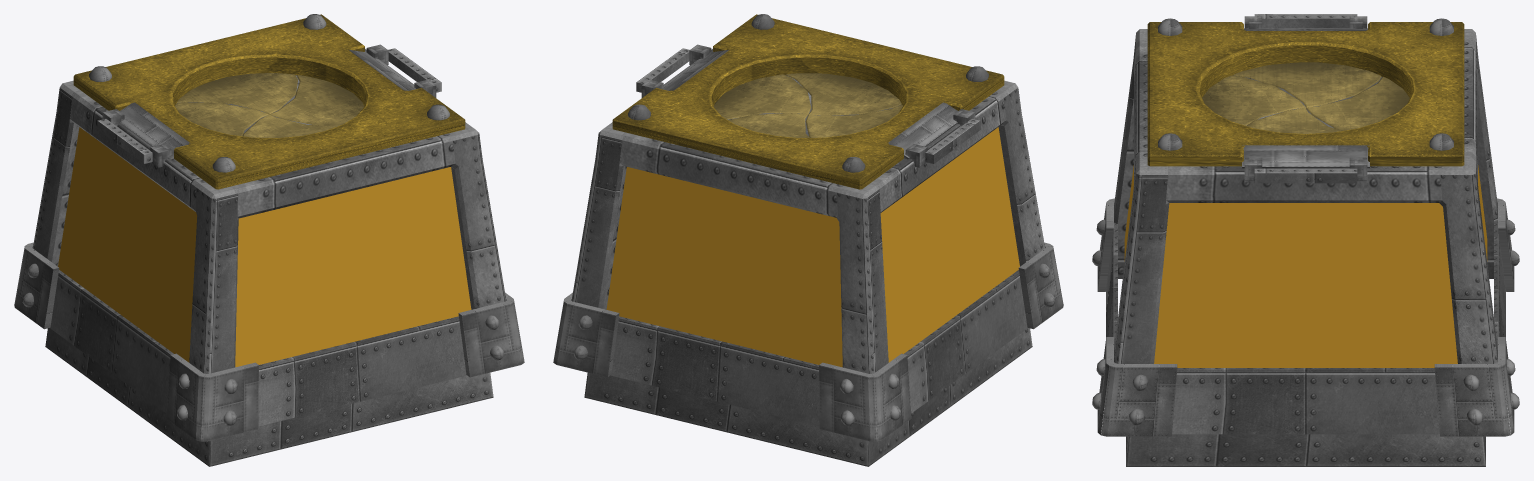
The model's file is static.glb.
3 renders of one model, left to right at view 1: azimuth 30°, elevation 25°; view 2: azimuth 150°, elevation 25°; view 3: azimuth 270°, elevation 25°, orthographic. The views are drawn at different scales.
Parts seen in each view (by area): view 1: Plane, Boole, Plane_2, frame, Cube_4, Cube_3, frame_2, Cube_7, frame_3, Cube_6, Cube_8, Extrude_6 (+8 smaller); view 2: Plane_3, Boole, Plane_2, frame_3, Cube_10, Cube_3, frame_2, Cube_7, frame_4, Cube_14, Cube_12, Extrude (+8 smaller); view 3: Plane_4, Boole, Cube_13, frame_4, Cube_3, frame, Cube_5, Cube_15, frame_3, Extrude_4, Extrude, Cube (+11 smaller).
Part boxes in pixels (x1,y1,x2,y2): Plane: (235, 167, 471, 367); Boole: (73, 14, 465, 189); Plane_2: (58, 127, 197, 362); frame: (231, 122, 506, 309); Cube_4: (258, 316, 466, 426); Cube_3: (45, 75, 493, 466); frame_2: (70, 90, 238, 433); Cube_7: (50, 270, 173, 413); frame_3: (33, 80, 79, 266); Cube_6: (458, 300, 524, 377); Cube_8: (201, 362, 258, 441); Extrude_6: (177, 73, 297, 114); Plane_3: (606, 167, 842, 367); Boole: (612, 14, 1004, 189); Plane_2: (880, 127, 1019, 362); frame_3: (620, 132, 888, 433); Cube_10: (611, 316, 819, 426); Cube_3: (584, 75, 1032, 466); frame_2: (869, 80, 1044, 266); Cube_7: (904, 270, 1027, 413); frame_4: (571, 49, 712, 309); Cube_14: (553, 300, 619, 377); Cube_12: (819, 362, 876, 441); Extrude: (786, 73, 901, 115); Plane_4: (1154, 203, 1457, 367); Boole: (1147, 22, 1464, 166); Cube_13: (1172, 368, 1439, 434); frame_4: (1165, 157, 1497, 363); Cube_3: (1126, 77, 1485, 466); frame: (1114, 39, 1169, 363); Cube_5: (1101, 363, 1177, 436); Cube_15: (1434, 363, 1510, 436); frame_3: (1464, 29, 1497, 278); Extrude_4: (1233, 62, 1381, 107); Extrude: (1202, 75, 1305, 125); Cube: (1254, 14, 1357, 183).
Size of the model in its own units: 2.05 by 1.66 by 2.05.
Materials: 4 (3 with a texture image).
